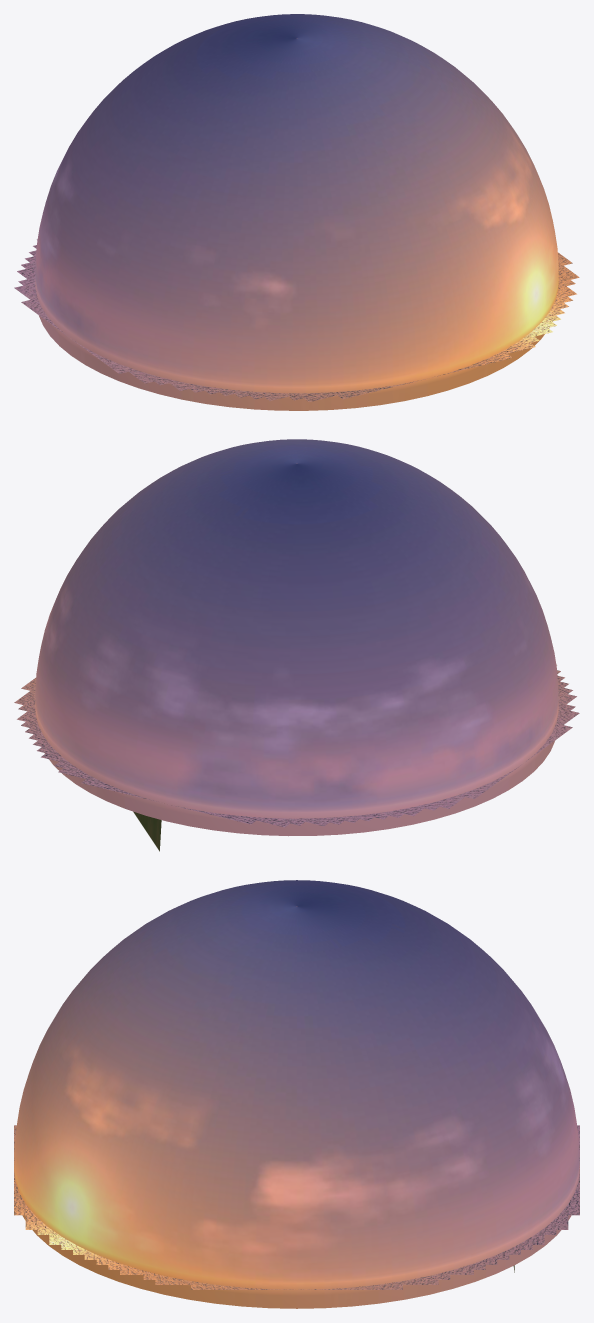
Rendered from rexmaw_deck.glb.
The picture shows the model from 3 angles, top to bottom: view 1: azimuth 30°, elevation 25°; view 2: azimuth 150°, elevation 25°; view 3: azimuth 270°, elevation 25°; orthographic projection. The views are drawn at different scales.
Visible parts, largest first — view 1: sky, water; view 2: sky, water; view 3: sky, water.
Part boxes in pixels (bbox=[...]): sky: bbox=[35, 14, 558, 410]; water: bbox=[14, 239, 579, 402]; sky: bbox=[35, 439, 558, 836]; water: bbox=[14, 664, 579, 827]; sky: bbox=[14, 880, 579, 1308]; water: bbox=[14, 1125, 579, 1289].
Size of the model in its own units: 156 by 106 by 156.
Materials: 58 (33 with a texture image).
